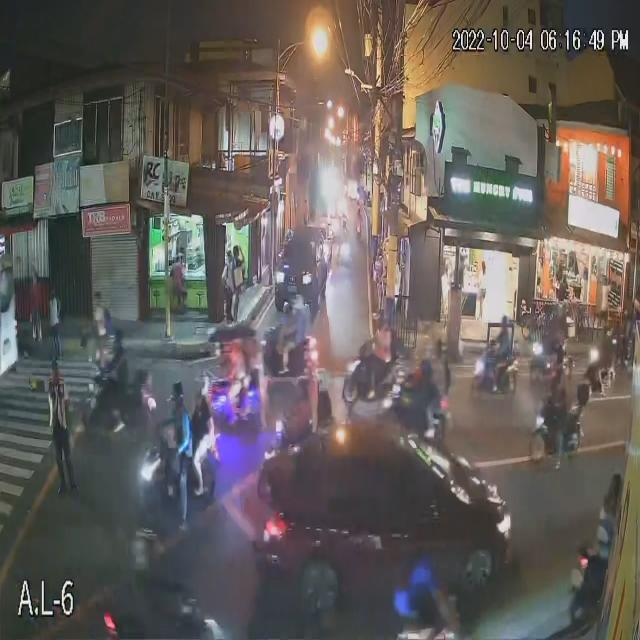helmet: (130, 539, 164, 568), (315, 367, 330, 396), (172, 389, 186, 408), (109, 337, 126, 349)
motorcycle: (141, 449, 217, 499), (103, 611, 222, 640), (532, 409, 585, 461), (85, 385, 155, 424), (388, 402, 447, 443), (576, 553, 618, 610), (202, 379, 263, 418), (348, 358, 402, 400), (260, 332, 320, 369), (479, 348, 518, 393), (590, 360, 616, 397), (531, 345, 571, 368)
rider: (596, 501, 615, 567), (170, 412, 186, 472), (111, 355, 128, 409), (228, 352, 244, 395), (198, 419, 211, 467), (373, 331, 389, 370), (282, 318, 295, 355), (298, 405, 312, 432), (316, 400, 329, 425), (502, 330, 508, 365)
